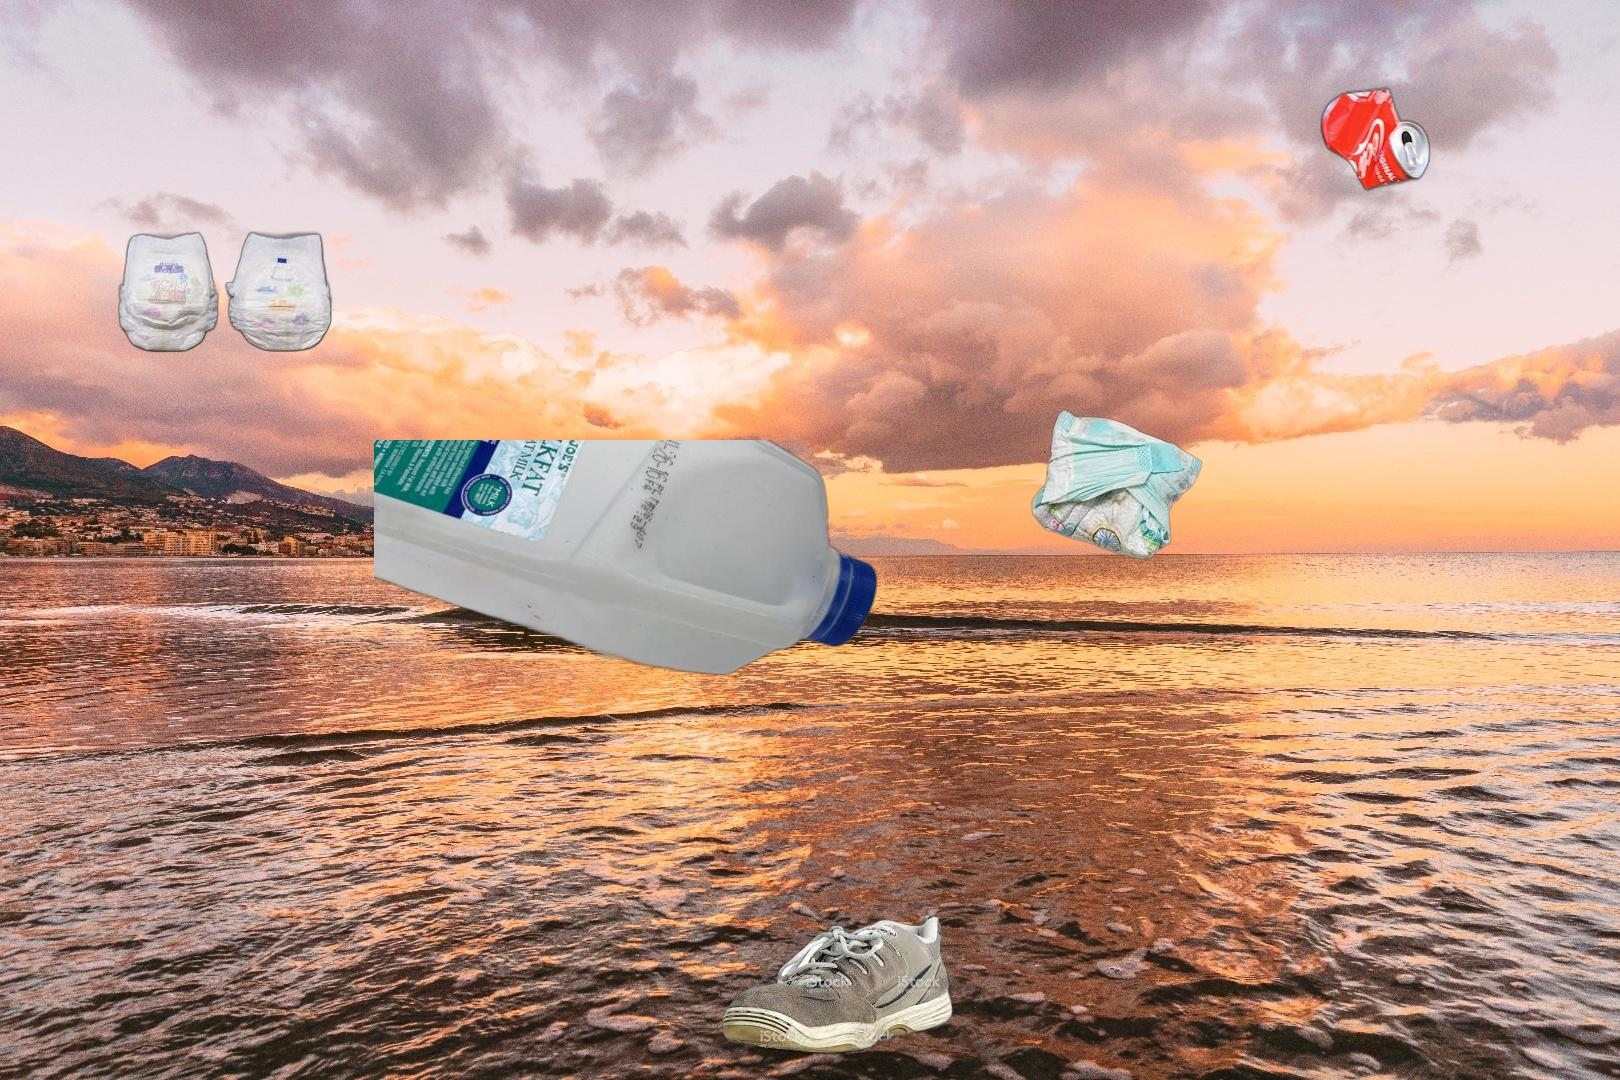metal-cans: (1035, 82, 1548, 644)
plastic-bottles: (374, 440, 882, 679)
shoes: (720, 912, 953, 1057)
trash: (115, 229, 337, 356), (1029, 407, 1205, 562)
